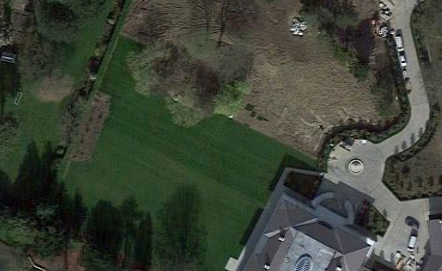tree: (132, 42, 223, 136)
